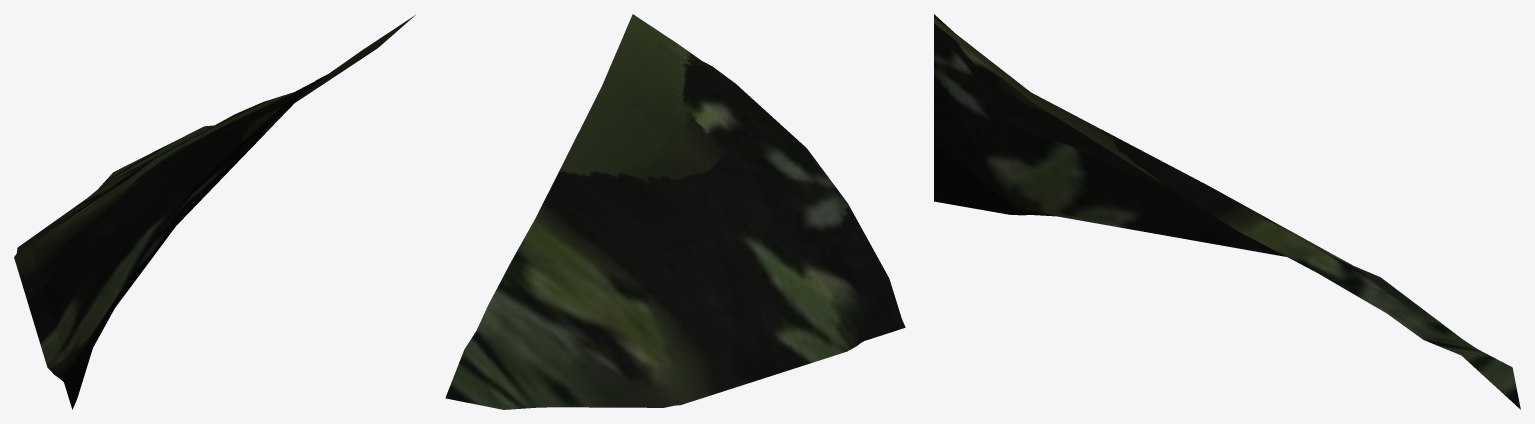
3 views of the same model, side by side, from view 1: azimuth 30°, elevation 25°; view 2: azimuth 150°, elevation 25°; view 3: azimuth 270°, elevation 25° (orthographic). The views are drawn at different scales.
Bounding box in the file's own units: 0.5066 × 0.4383 × 0.6028.
Materials: 2 (2 with a texture image).
